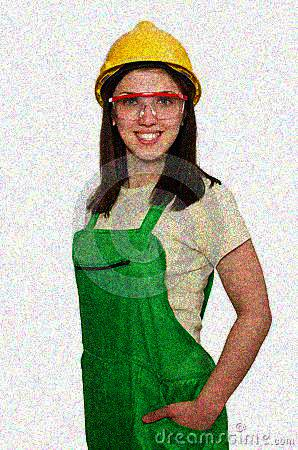helmet: (96, 19, 204, 163)
